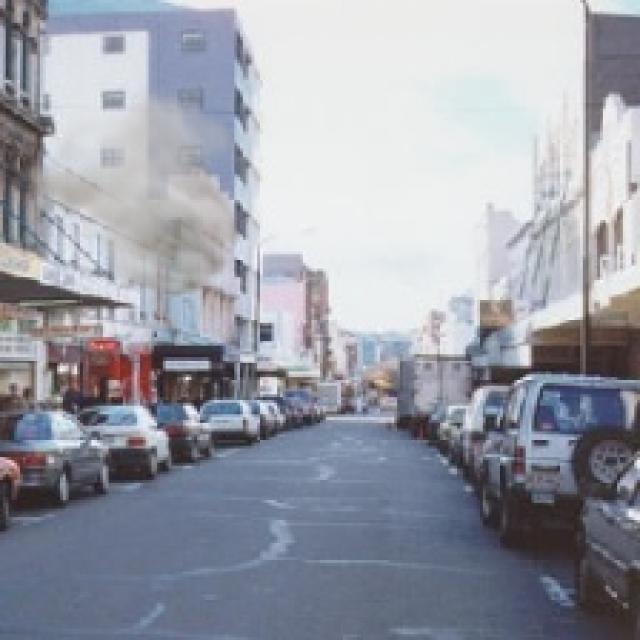Smoke: (11, 80, 263, 317)
